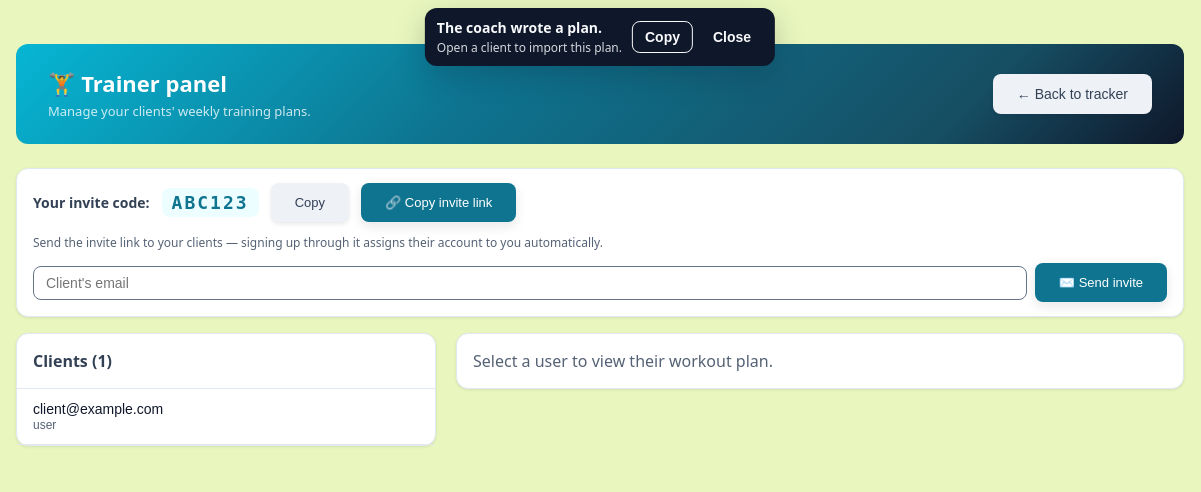
it: AdminDashboard import plan › says the plan is loading, then names the calendar week for a client with no plan
Click the text "client@example.com" at (98, 409), box [33,401,163,417]
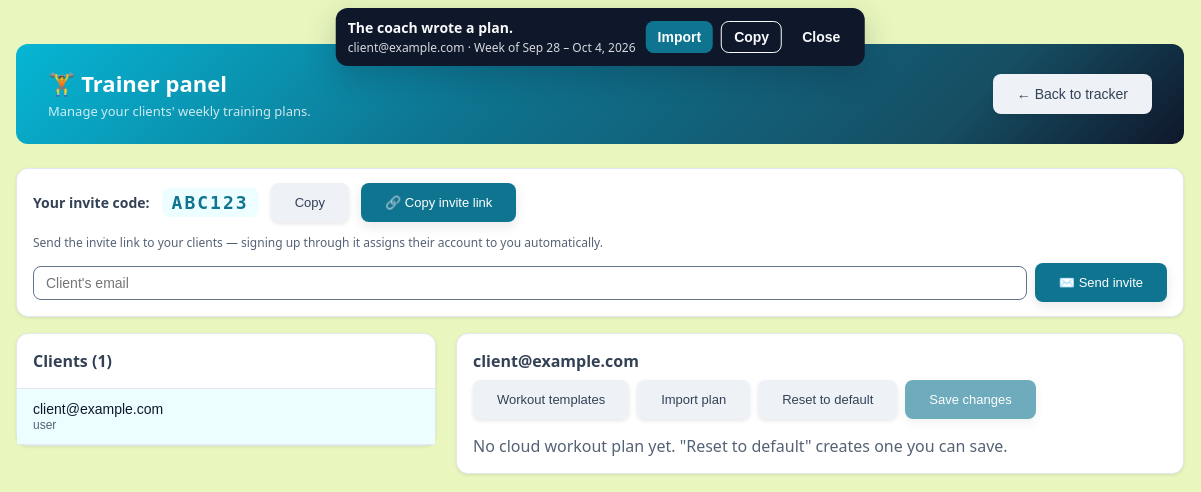
Expected: the text "Loading plan for client@example.com" is shown, [348,39,636,56]
Result: the button "Import" is shown at [646,21,713,53]
